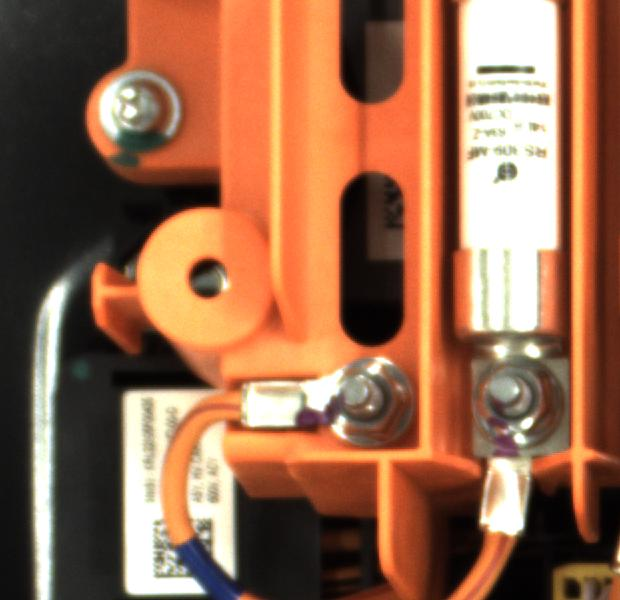screw_m: (89, 66, 202, 158)
screw_s: (313, 353, 422, 450), (468, 354, 569, 447)
